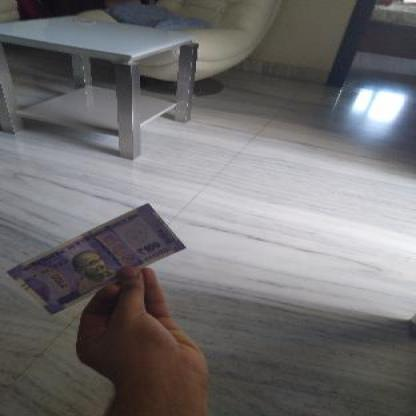New100Front: (16, 201, 189, 303)
